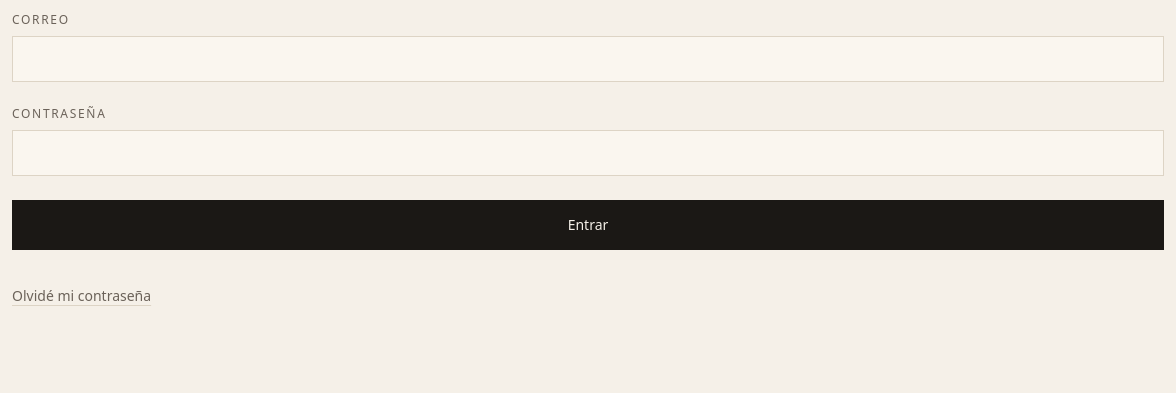
Test: LoginForm — sign-in › reports an unavailable service when the server could not create the session
Type "admin@example.com" into the field labelled "Correo" at (588, 59), box [12, 36, 1164, 82]
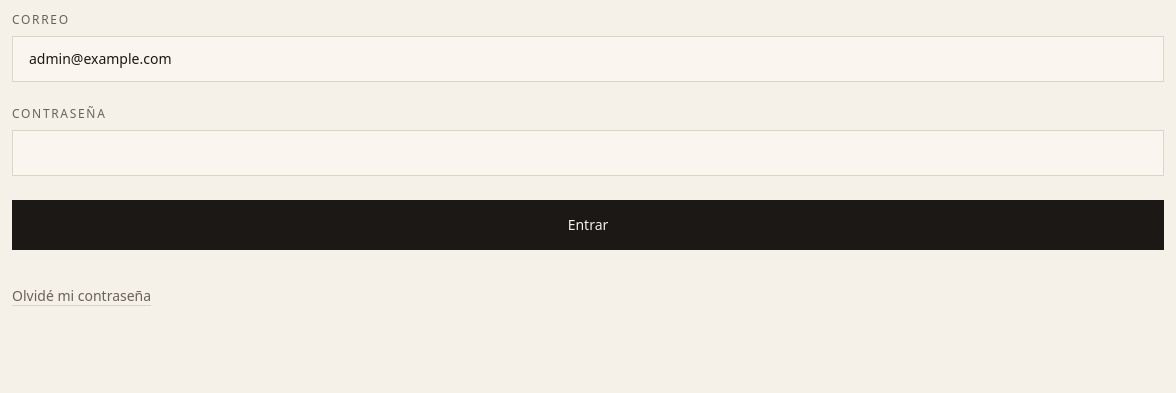
Type "pw" into the password field labelled "Contraseña" at (588, 153), box [12, 130, 1164, 176]
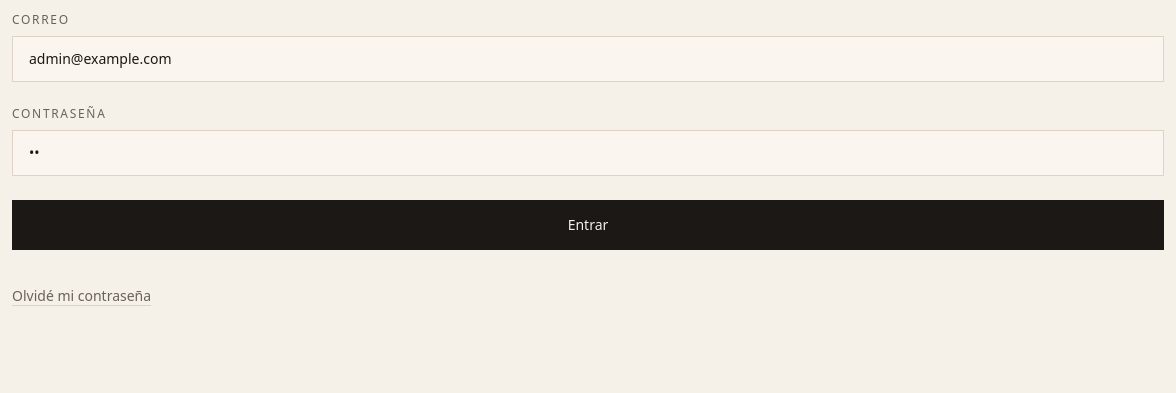
Submit the form "Entrar"
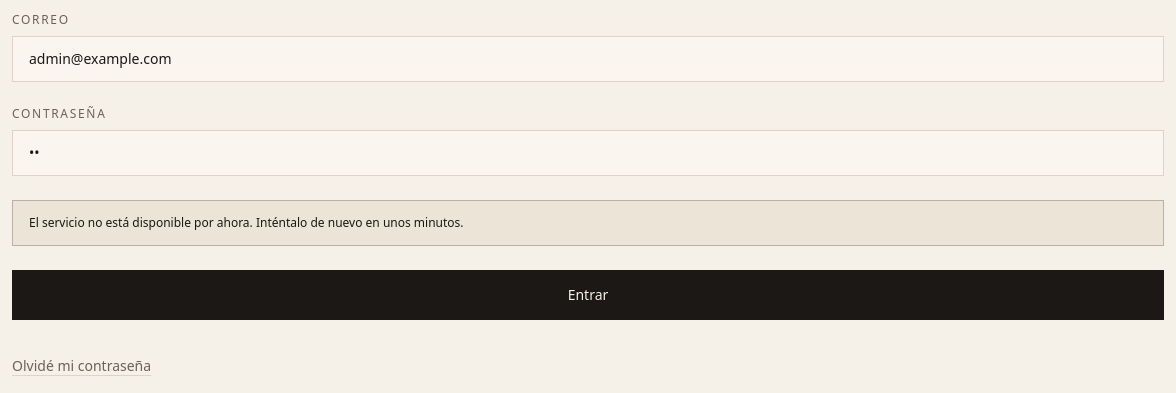
Result: the message shows "El servicio no está disponible" at [29, 214, 464, 231]
